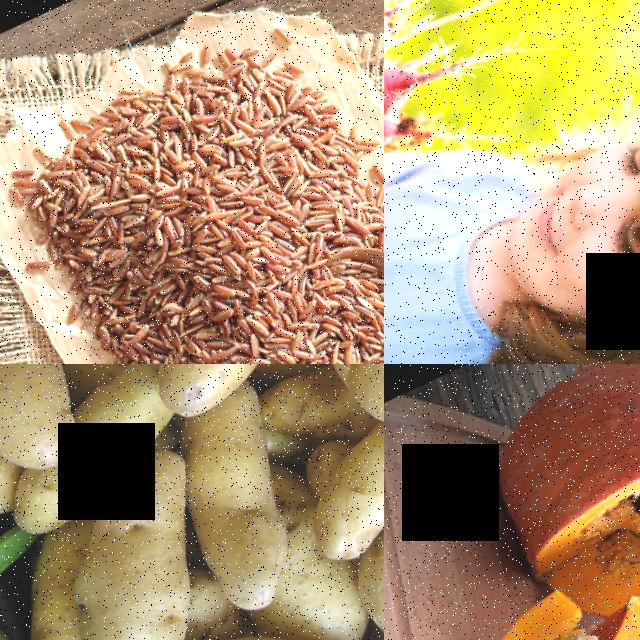potato: (6, 446, 272, 640), (138, 386, 342, 617), (273, 413, 384, 567), (0, 364, 100, 491), (328, 460, 384, 640)
pumpkin: (459, 364, 640, 633), (427, 513, 640, 640)
radishes: (384, 0, 468, 247)
red rice: (16, 34, 372, 339), (102, 240, 384, 364)
